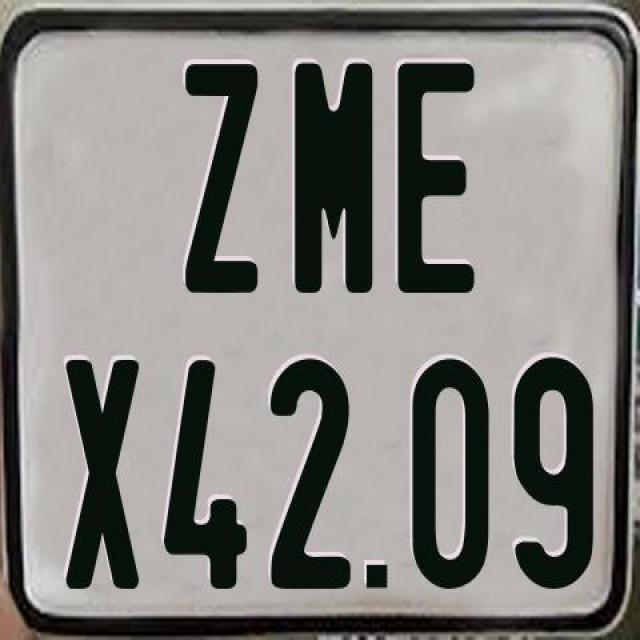0: (410, 358, 494, 594)
2: (266, 355, 346, 592)
4: (164, 358, 247, 592)
9: (514, 357, 594, 592)
E: (394, 63, 478, 294)
M: (294, 59, 374, 294)
X: (61, 356, 138, 594)
Z: (181, 64, 260, 296)
